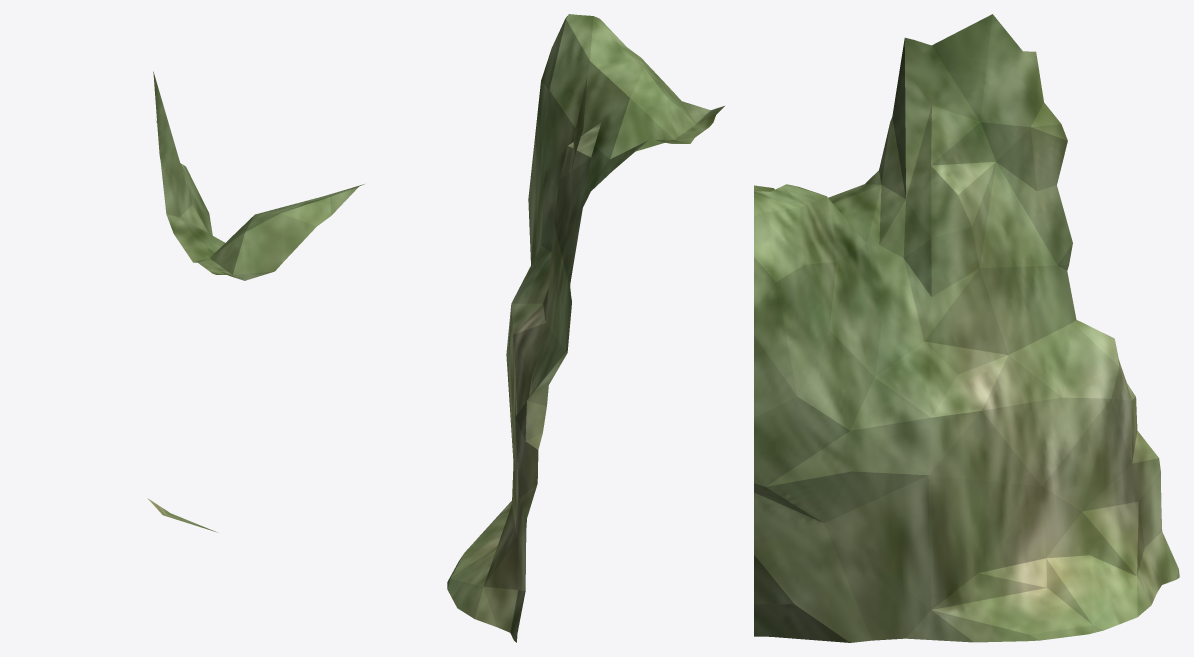
The picture shows the model from 3 angles, left to right: view 1: azimuth 30°, elevation 25°; view 2: azimuth 150°, elevation 25°; view 3: azimuth 270°, elevation 25°; orthographic projection. The views are drawn at different scales.
Bounding box in the file's own units: 0.6328 × 1.82 × 1.25.
1 material, 1 textured.
